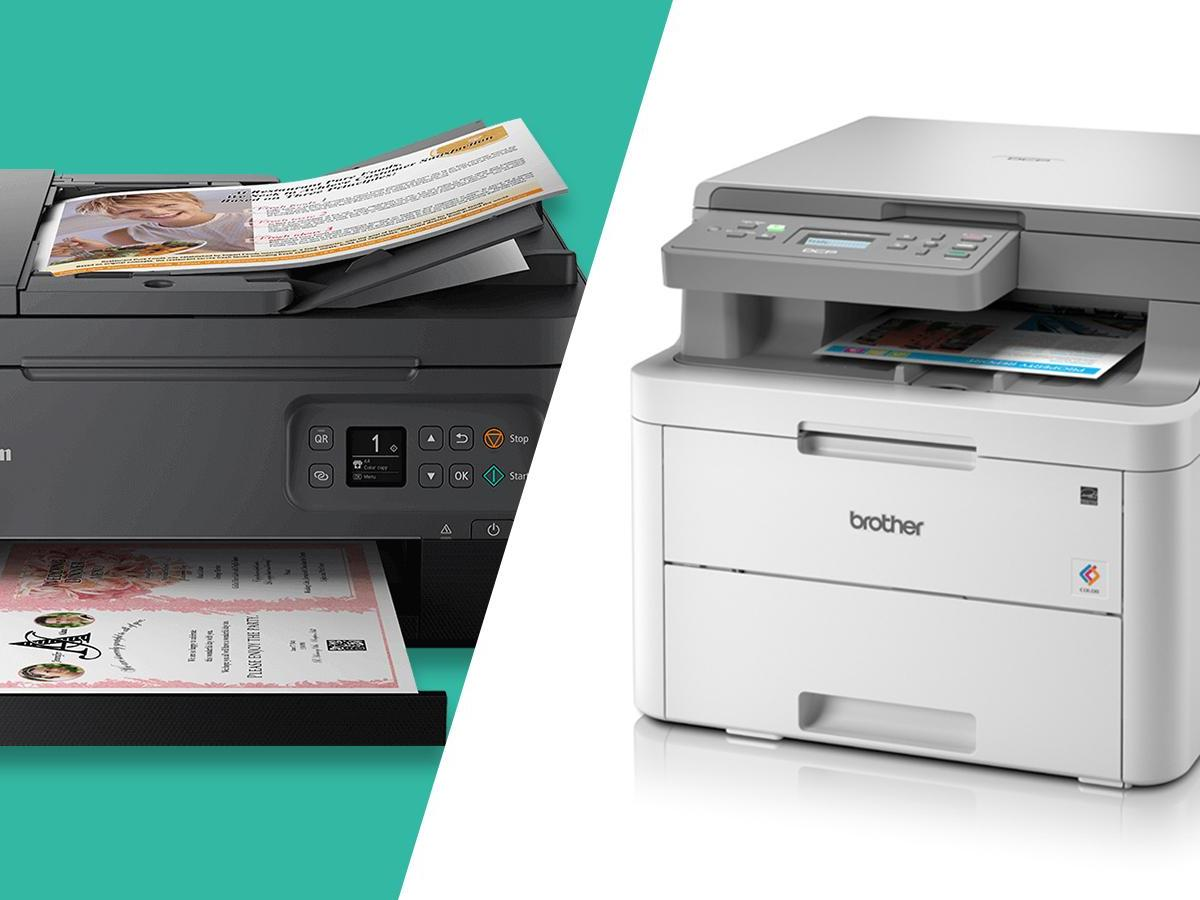printer: (610, 108, 1200, 797)
